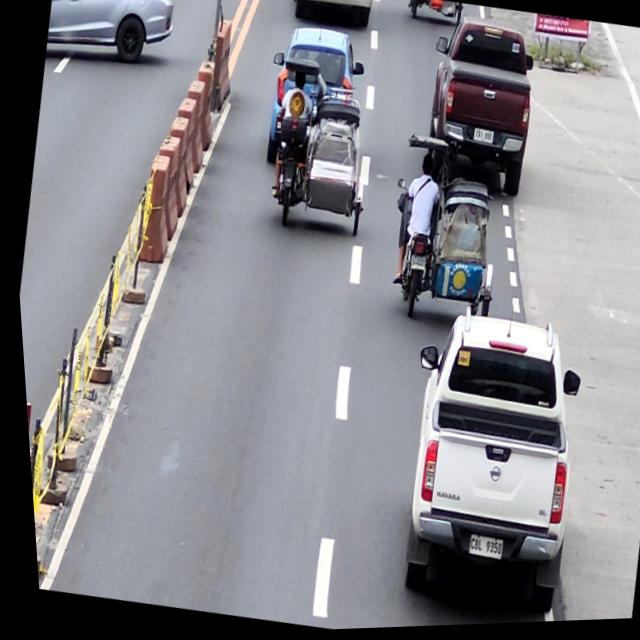Car: (371, 295, 597, 625), (407, 11, 546, 206), (251, 21, 373, 181)
License-Plate: (459, 536, 496, 564), (470, 131, 493, 149), (405, 258, 422, 275)
Tricycle: (370, 132, 516, 333), (253, 53, 386, 241)
